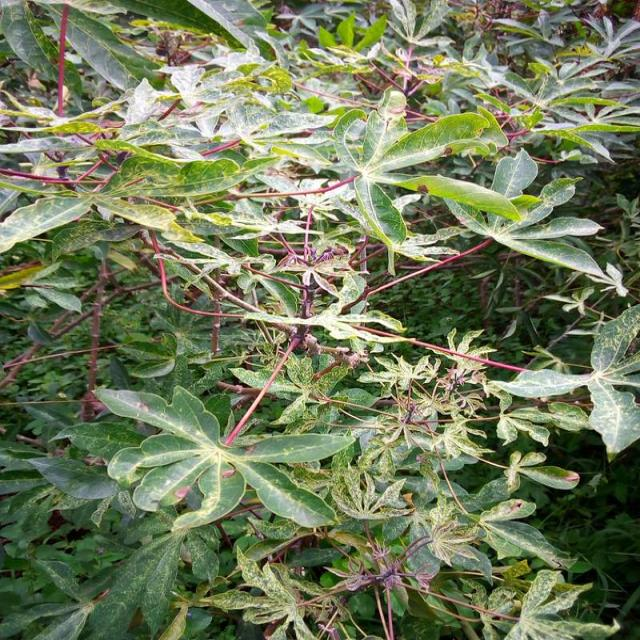cassava leaf: (0, 1, 638, 638), (92, 382, 355, 533), (330, 93, 498, 263)
